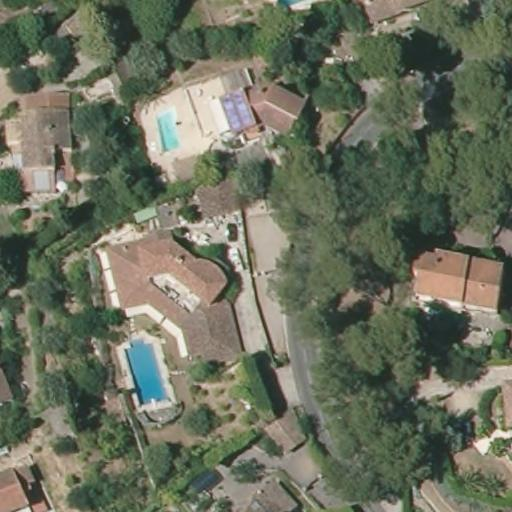pool: (112, 328, 174, 410), (150, 102, 187, 160)
